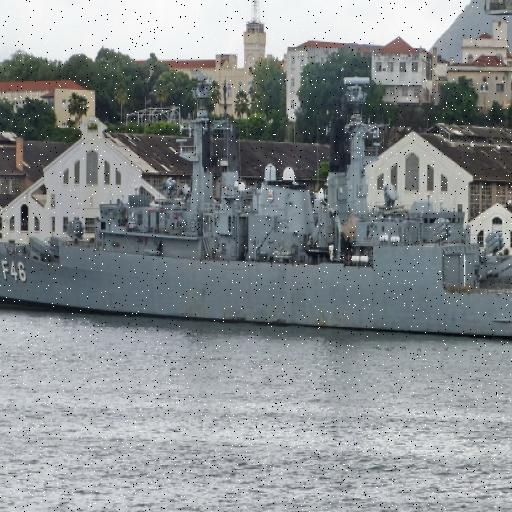Fragata: (1, 105, 512, 346)
